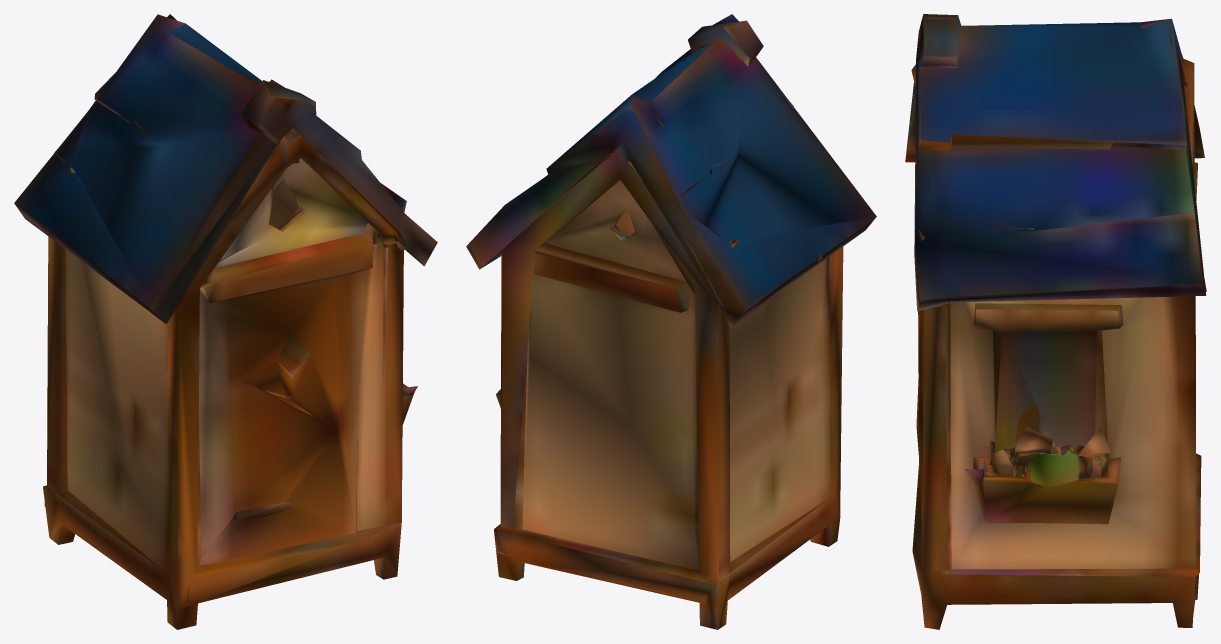
File: shed.glb
The picture shows the model from 3 angles, left to right: view 1: azimuth 30°, elevation 25°; view 2: azimuth 150°, elevation 25°; view 3: azimuth 270°, elevation 25°; orthographic projection. The views are drawn at different scales.
Bounding box in the file's own units: 0.6151 × 0.9959 × 0.4932.
Materials: 1 (1 with a texture image).
